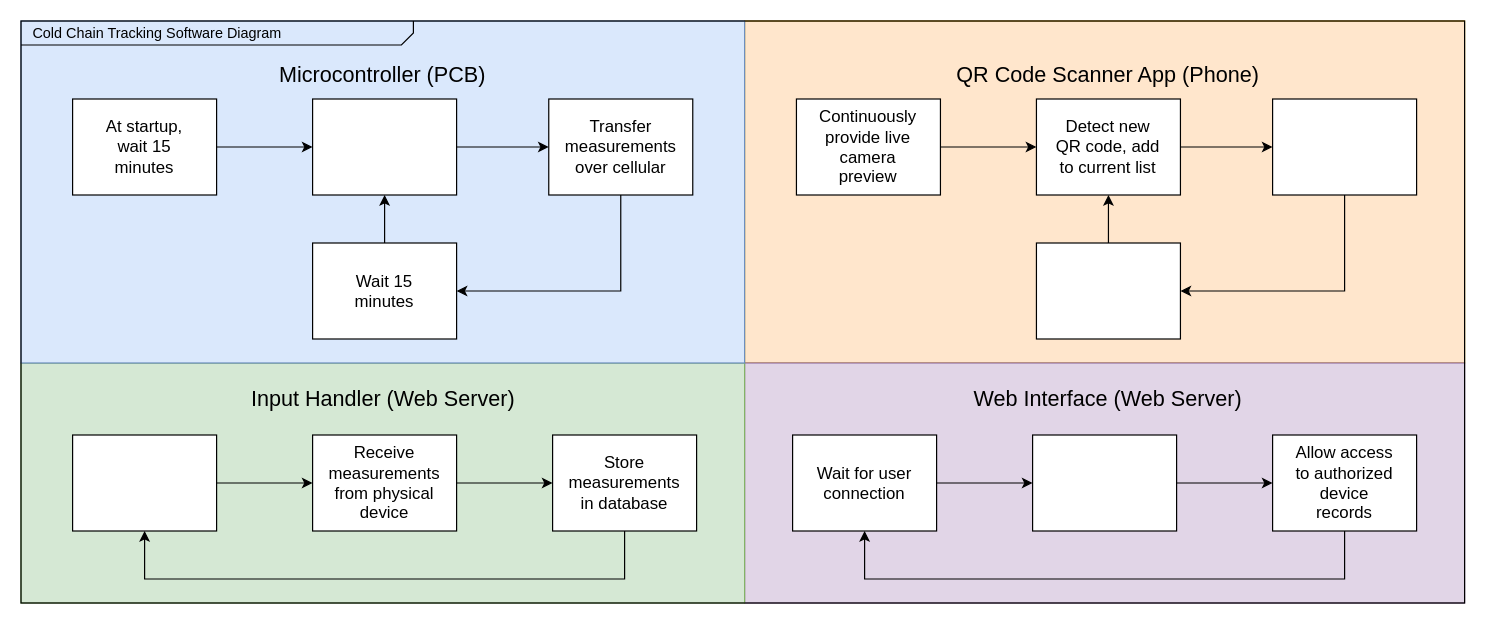
Image size: 1486x624. Some labels were removed from this diagram. The shapes that lost their labels are listed below. From the top down, each one's centre as x and y in pixels, then its label:
[384,146]: Get measurements from sensors
[1344,146]: On button press, upload QR code list to server
[1107,290]: Clear QR code list
[144,482]: Wait for cellular connection
[1104,482]: Authenticate sign-in
